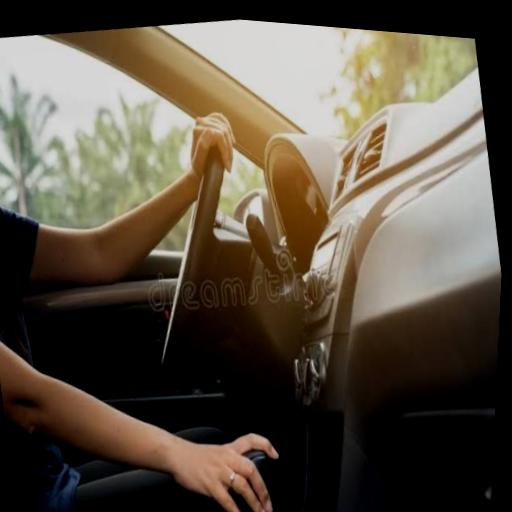Hands-on-the-Wheel: (136, 89, 269, 219)
